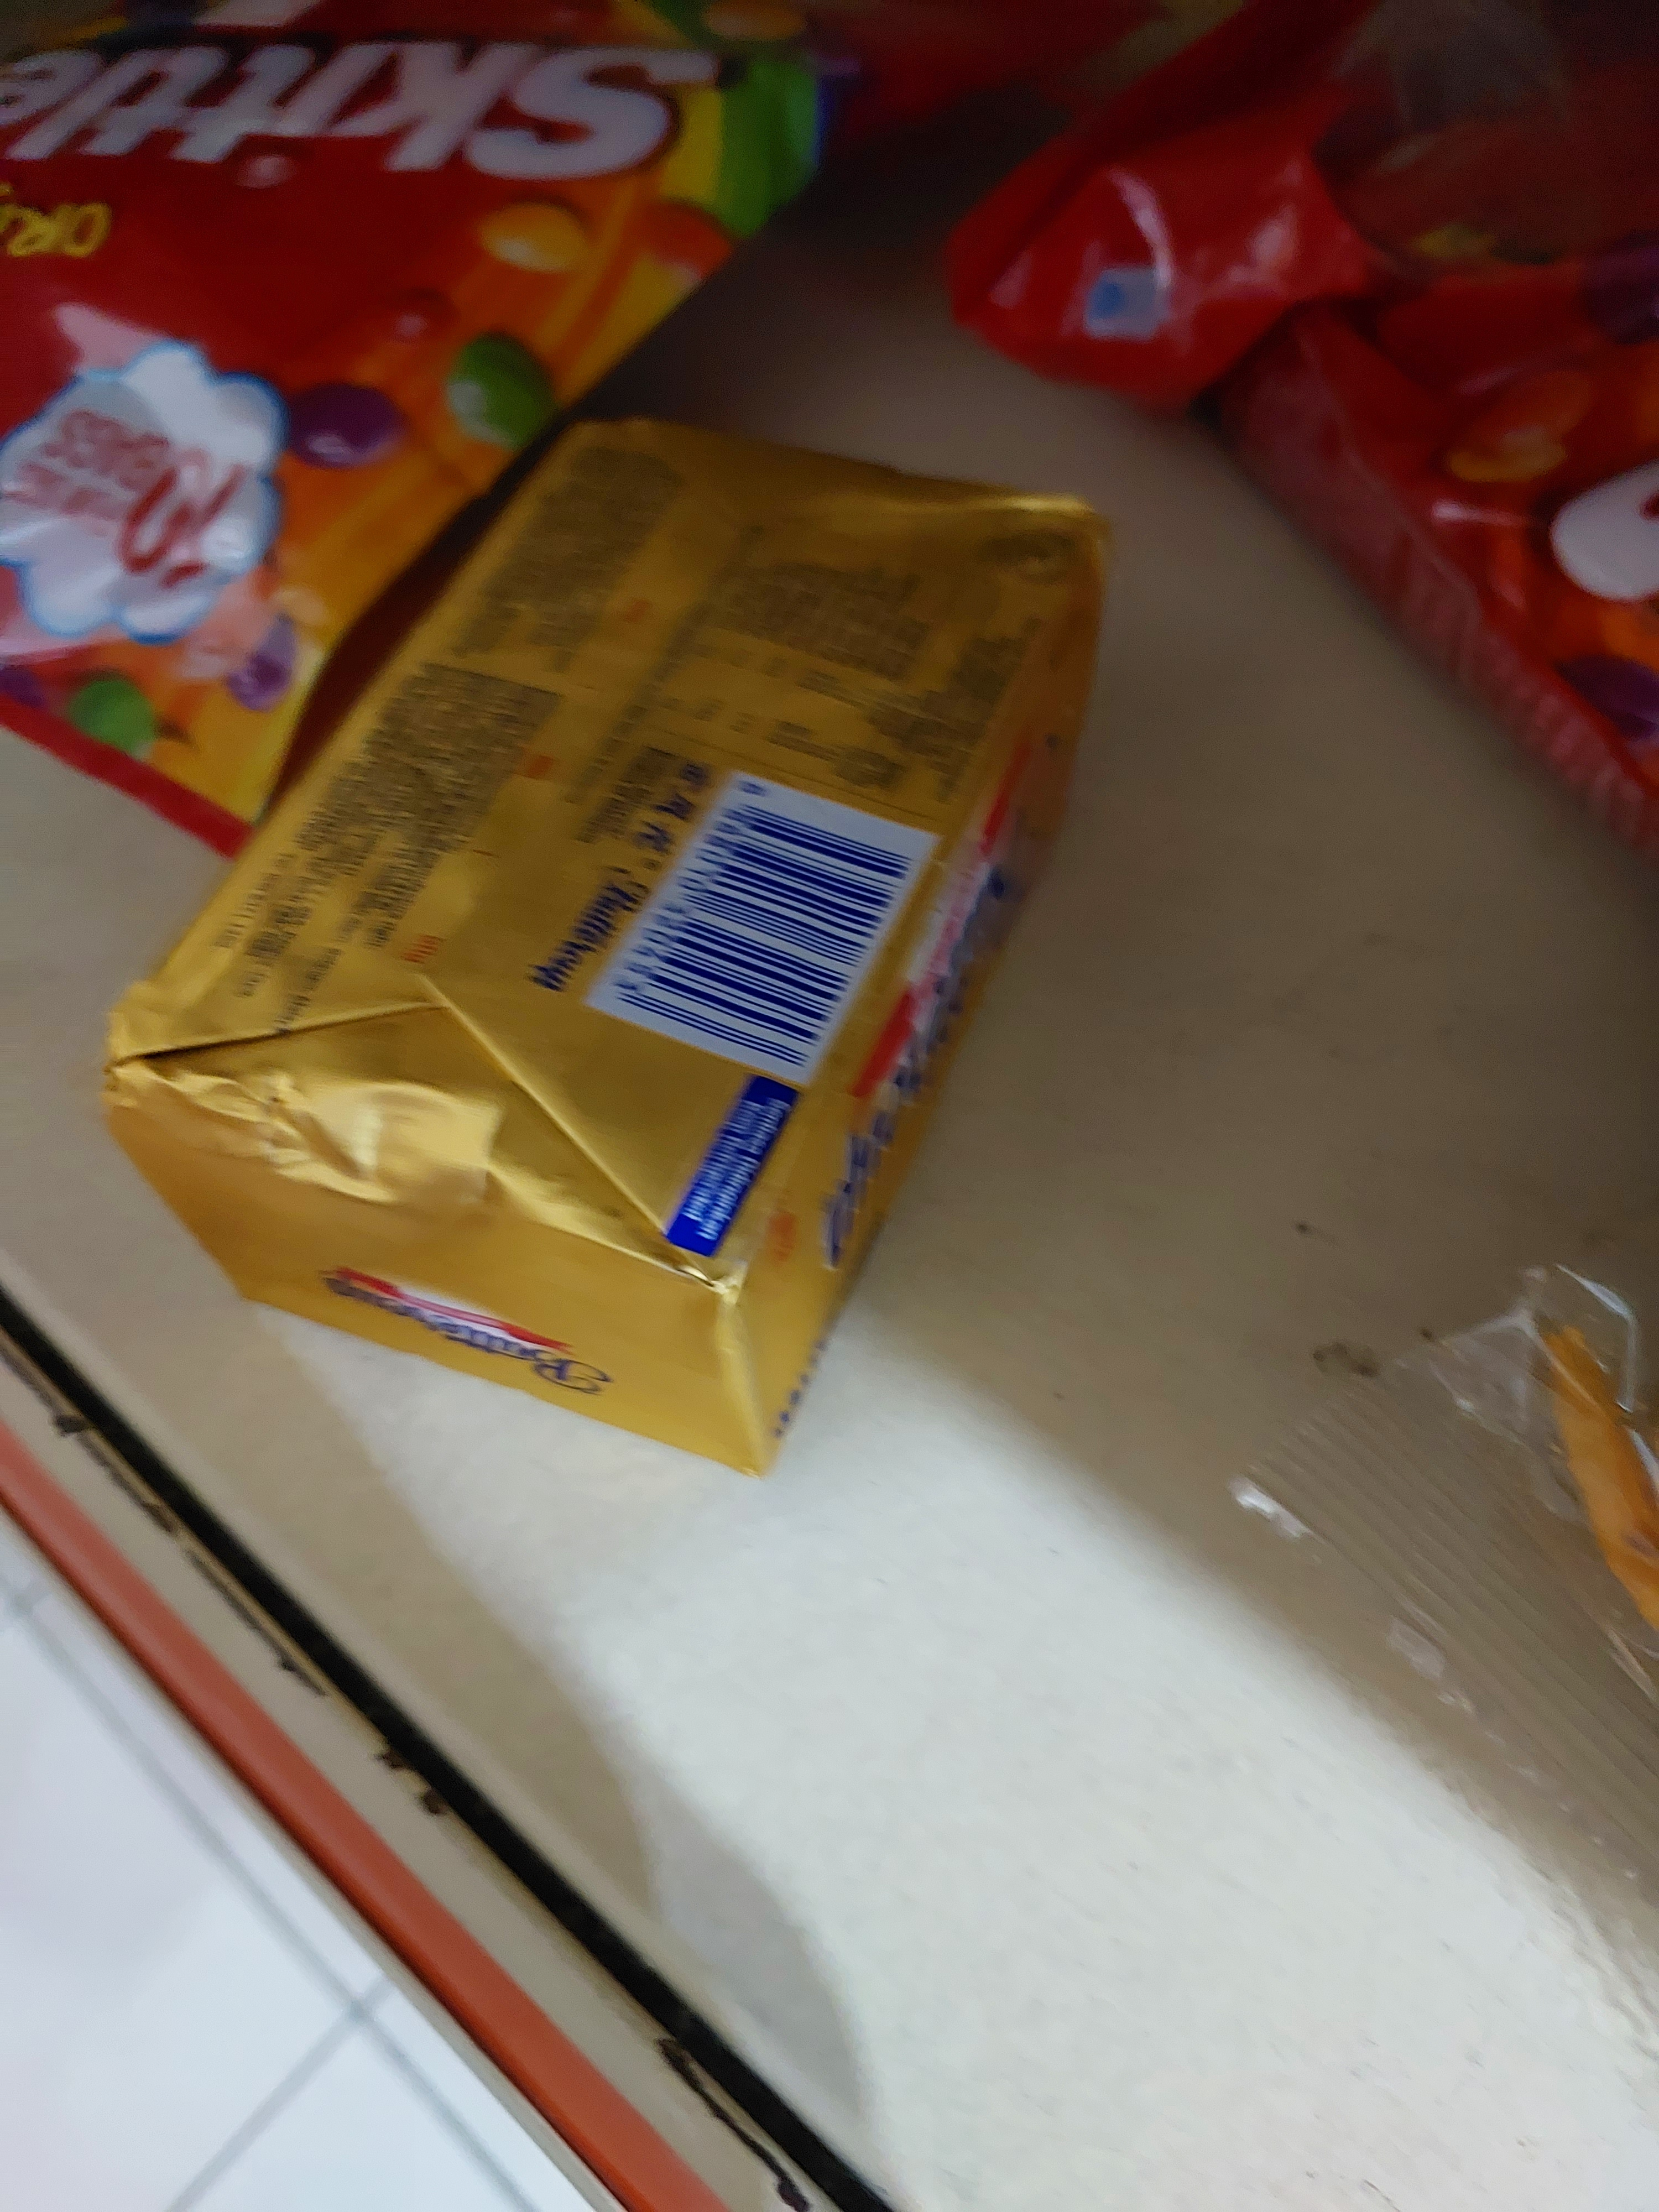butter: (99, 413, 1112, 1480)
